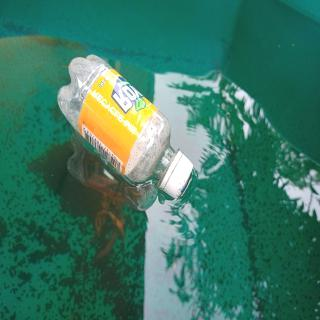bottle: (55, 51, 196, 206)
